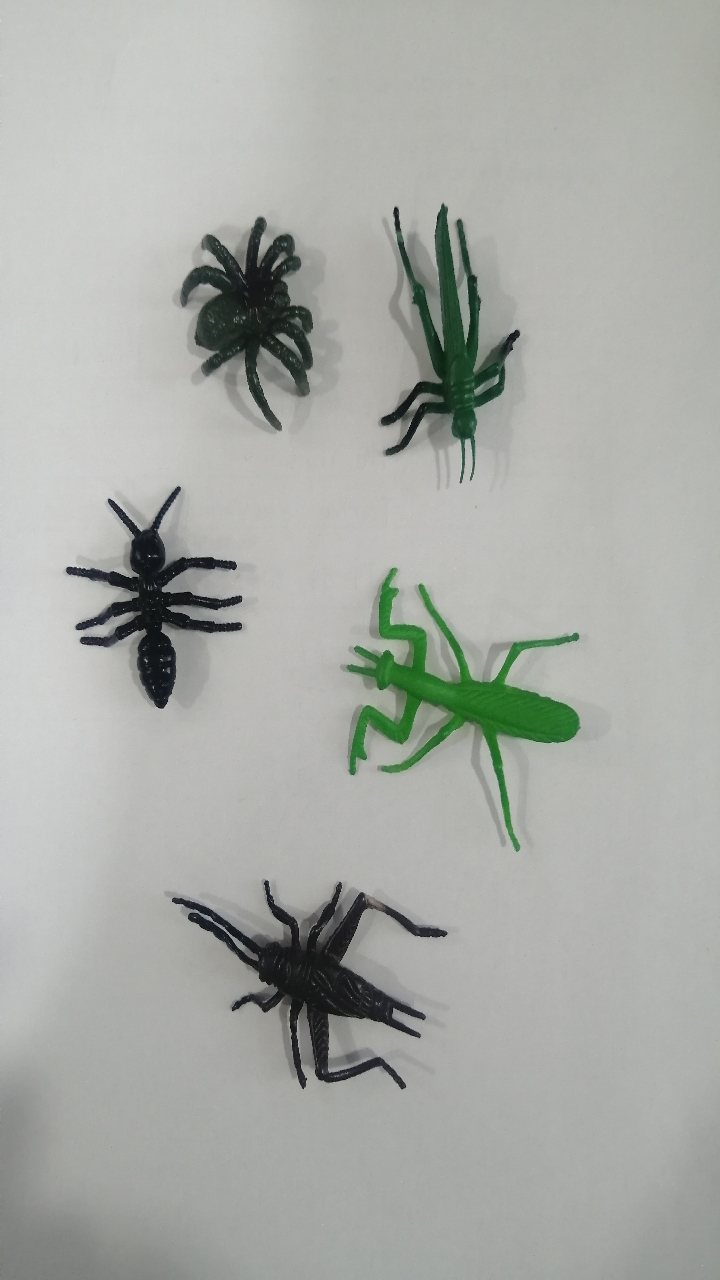intruso: (314, 534, 598, 863), (131, 852, 474, 1109), (352, 182, 549, 506), (52, 454, 269, 720), (144, 189, 338, 445)
